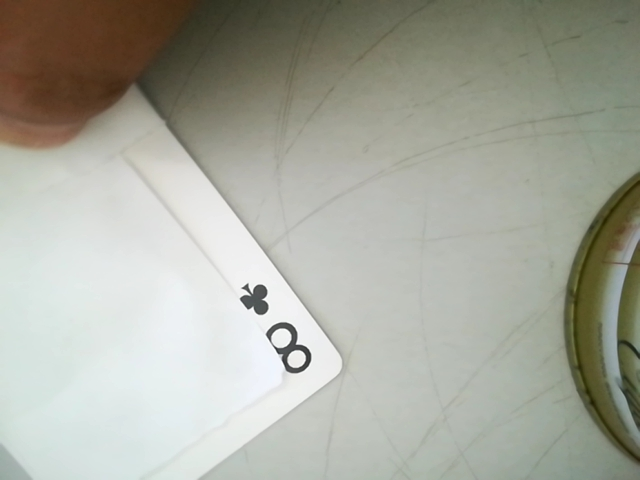mh 8: (230, 270, 322, 382)
